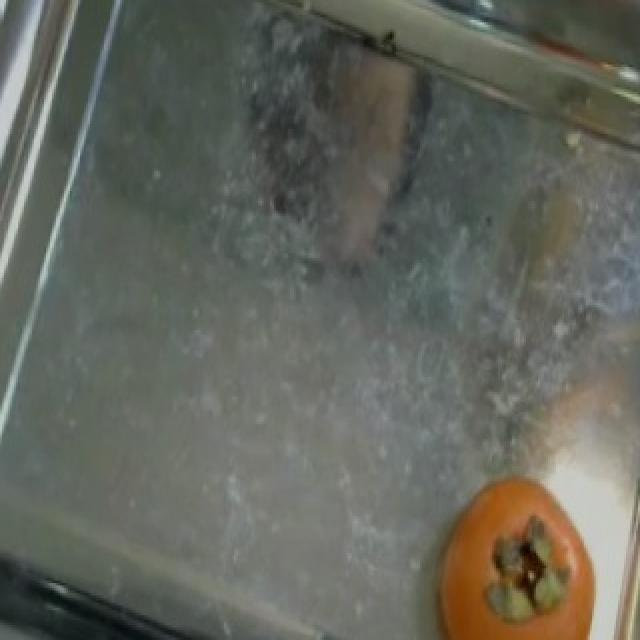Fruit: (404, 456, 620, 640)
